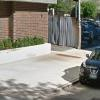Car: (76, 40, 100, 92)
